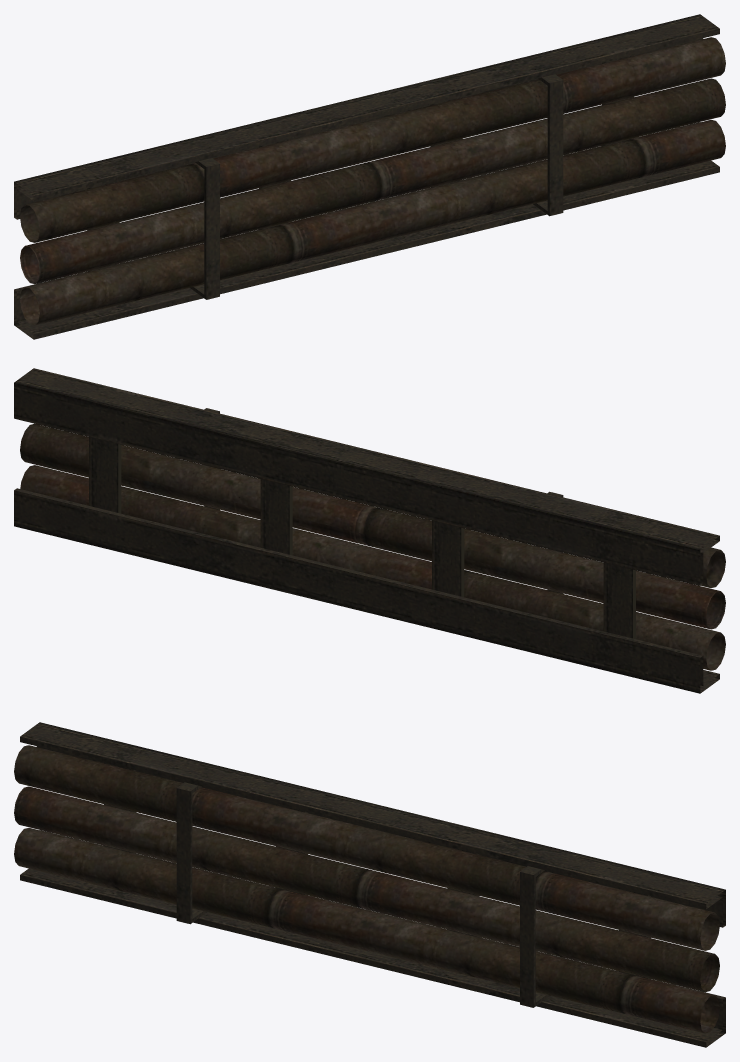
The model's file is pipes_hr_5_middle.obj.
The picture shows the model from 3 angles, top to bottom: view 1: azimuth 30°, elevation 25°; view 2: azimuth 150°, elevation 25°; view 3: azimuth 330°, elevation 25°; orthographic projection.
Parts seen in each view (by area): view 1: pipes_hr_5_middle; view 2: pipes_hr_5_middle; view 3: pipes_hr_5_middle.
Boxes of the visible parts, x1,y1,x2,y2 form: pipes_hr_5_middle: [14, 14, 725, 339]; pipes_hr_5_middle: [14, 368, 725, 693]; pipes_hr_5_middle: [14, 722, 725, 1047].
Size of the model in its own units: 4 by 0.8 by 0.28.
